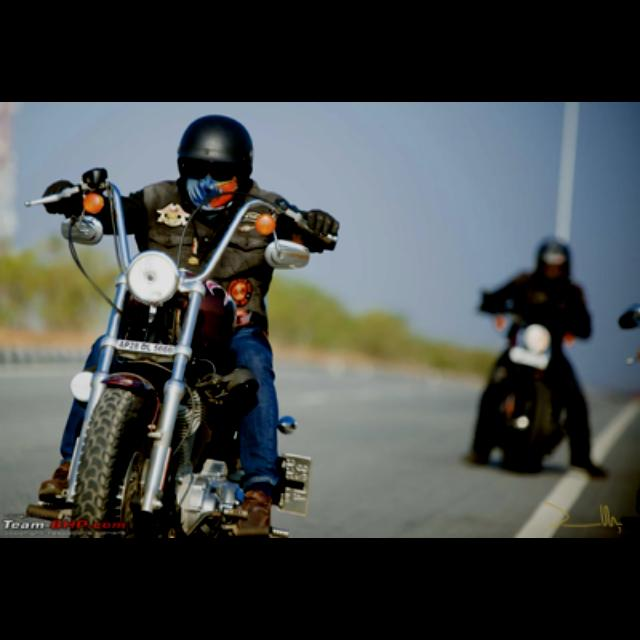With Helmet: (176, 110, 254, 218)
